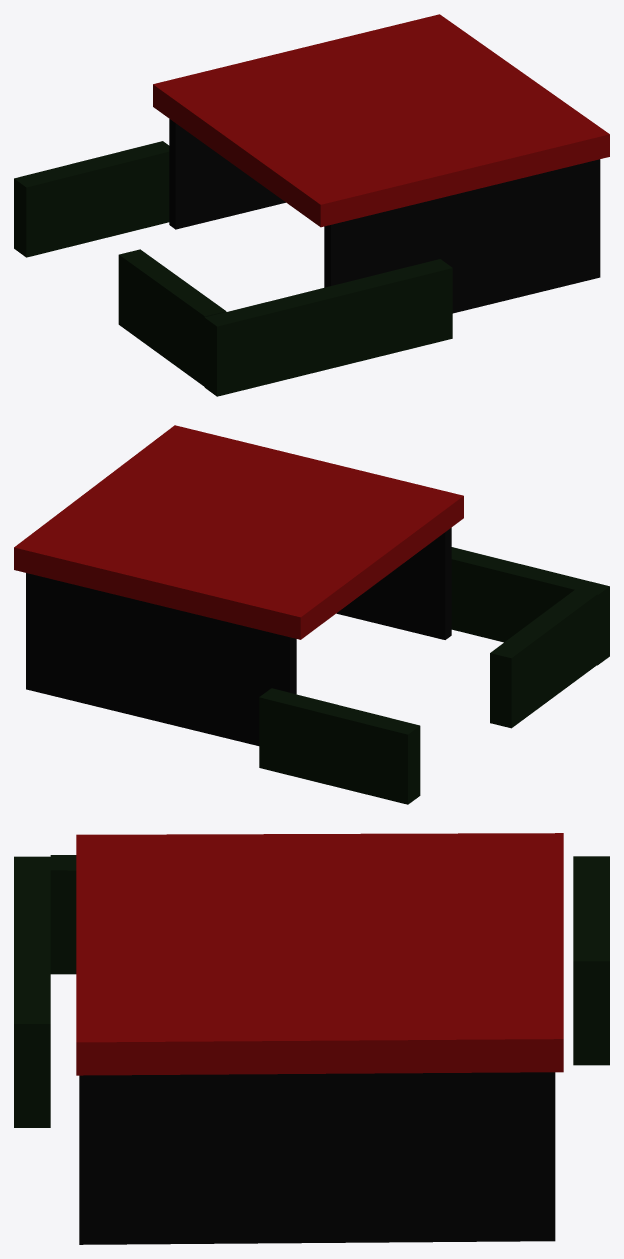
File: House3_Bushes.FBX
3 views of the same model, one above another, from view 1: azimuth 30°, elevation 25°; view 2: azimuth 150°, elevation 25°; view 3: azimuth 270°, elevation 25° (orthographic). The views are drawn at different scales.
Parts seen in each view (by area): view 1: House3_Bushes; view 2: House3_Bushes; view 3: House3_Bushes.
Boxes of the visible parts, <box> form: House3_Bushes: <box>14,14,609,396</box>; House3_Bushes: <box>14,425,609,804</box>; House3_Bushes: <box>14,833,609,1244</box>.
Size of the model in its own units: 1350 by 1142 by 454.
